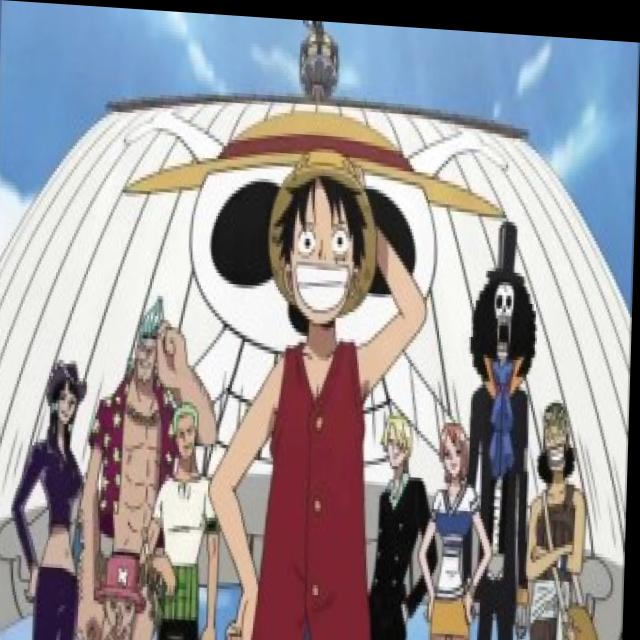Blook: (468, 249, 552, 375)
Chyopa: (94, 542, 156, 640)
Franky: (128, 291, 177, 398)
Luffy: (273, 139, 375, 342)
Nami: (438, 403, 474, 484)
NicoRobin: (46, 348, 94, 441)
Sangdi: (380, 401, 417, 474)
Usopp: (539, 398, 581, 485)
Zoro: (173, 397, 207, 465)
